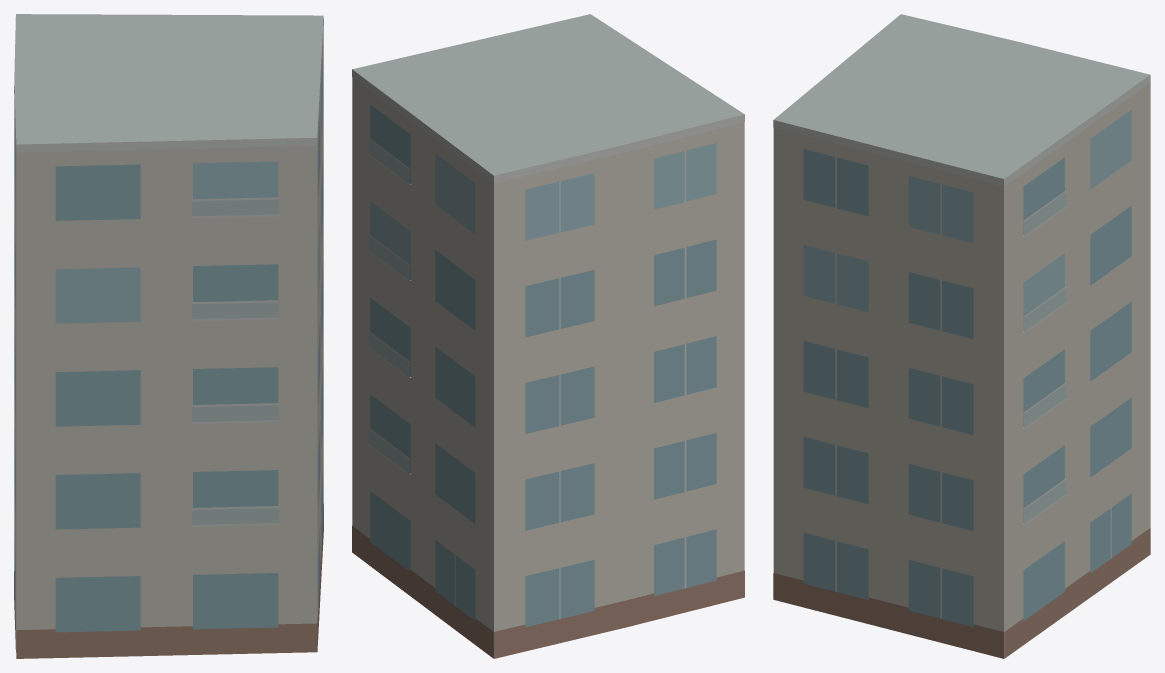
File: survey-upis-32727015.glb
The picture shows the model from 3 angles, left to right: view 1: azimuth 30°, elevation 25°; view 2: azimuth 150°, elevation 25°; view 3: azimuth 270°, elevation 25°; orthographic projection. The views are drawn at different scales.
Parts seen in each view (by area): view 1: survey-upis-32727015.tmp; view 2: survey-upis-32727015.tmp; view 3: survey-upis-32727015.tmp.
Part boxes in pixels (box(x1,y1,x2,y2)): survey-upis-32727015.tmp: box(14, 14, 323, 658); survey-upis-32727015.tmp: box(352, 14, 744, 658); survey-upis-32727015.tmp: box(773, 14, 1150, 658).
Size of the model in its own units: 11.26 by 15.25 by 10.87.
